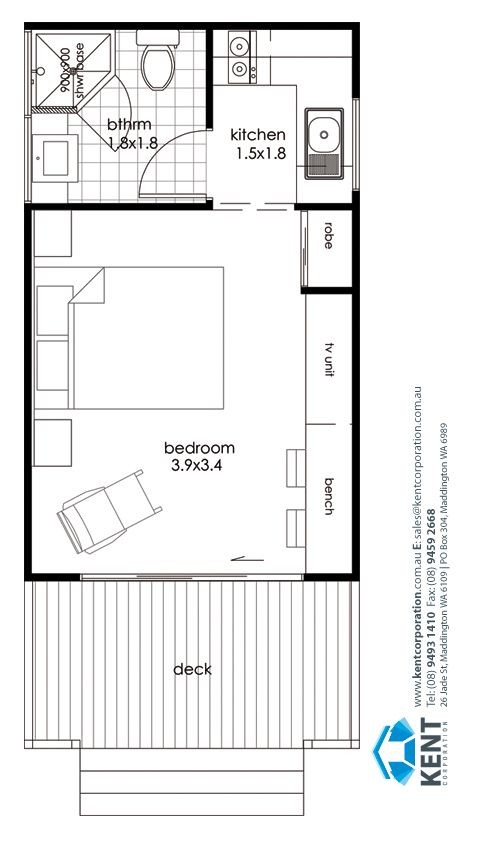door: (132, 129, 212, 192)
room: (16, 187, 367, 588), (12, 15, 382, 210)
wall: (18, 195, 40, 590), (344, 201, 364, 578), (14, 13, 364, 32), (26, 193, 213, 217), (344, 19, 376, 90), (296, 570, 358, 591)
window: (344, 92, 372, 192), (19, 36, 35, 202)
